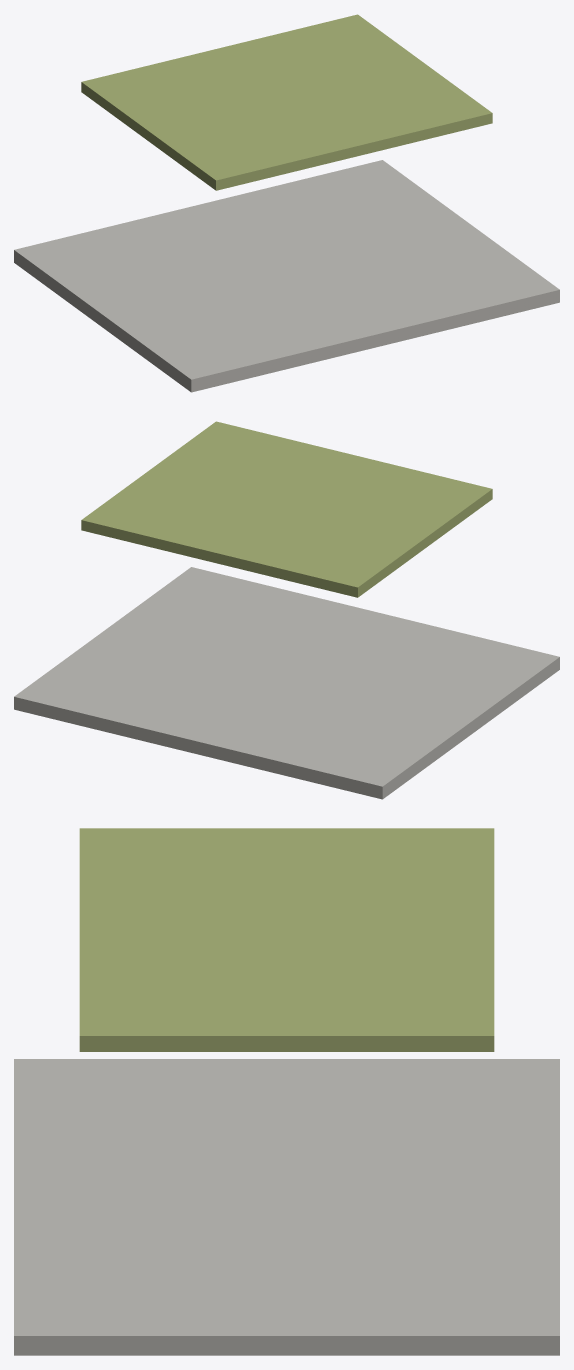
Rendered from bh_waterfront_cafe_terrace_01_lod0.glb.
3 renders of one model, top to bottom at view 1: azimuth 30°, elevation 25°; view 2: azimuth 150°, elevation 25°; view 3: azimuth 270°, elevation 25°, orthographic. The views are drawn at different scales.
Parts seen in each view (by area): view 1: bh_waterfront_cafe_terrace_01_deck, bh_waterfront_cafe_terrace_01_shade; view 2: bh_waterfront_cafe_terrace_01_deck, bh_waterfront_cafe_terrace_01_shade; view 3: bh_waterfront_cafe_terrace_01_deck, bh_waterfront_cafe_terrace_01_shade.
Part boxes in pixels (box(x1,y1,x2,y2)): bh_waterfront_cafe_terrace_01_deck: box(14, 160, 559, 392); bh_waterfront_cafe_terrace_01_shade: box(81, 14, 492, 190); bh_waterfront_cafe_terrace_01_deck: box(14, 567, 559, 799); bh_waterfront_cafe_terrace_01_shade: box(81, 421, 492, 597); bh_waterfront_cafe_terrace_01_deck: box(14, 1059, 559, 1355); bh_waterfront_cafe_terrace_01_shade: box(79, 828, 494, 1051).
Bounding box in the file's own units: 6 × 2.88 × 5.
